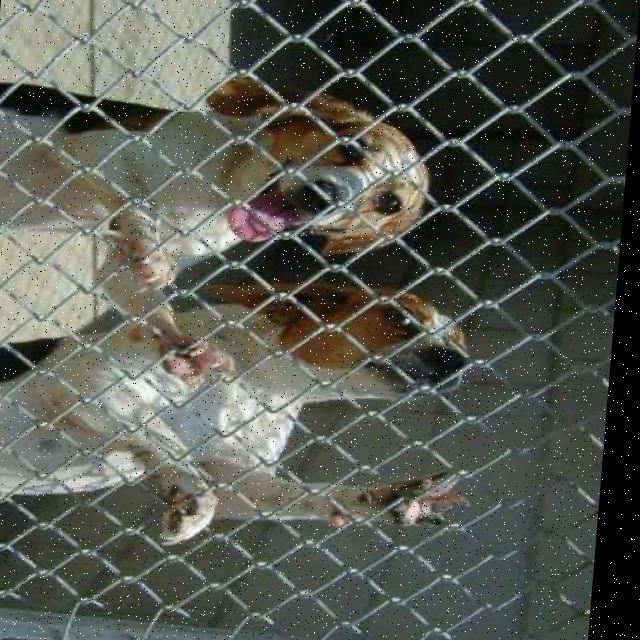dogs: (0, 282, 540, 551), (0, 61, 497, 306)
